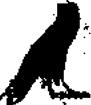Owl: (1, 2, 88, 104)
